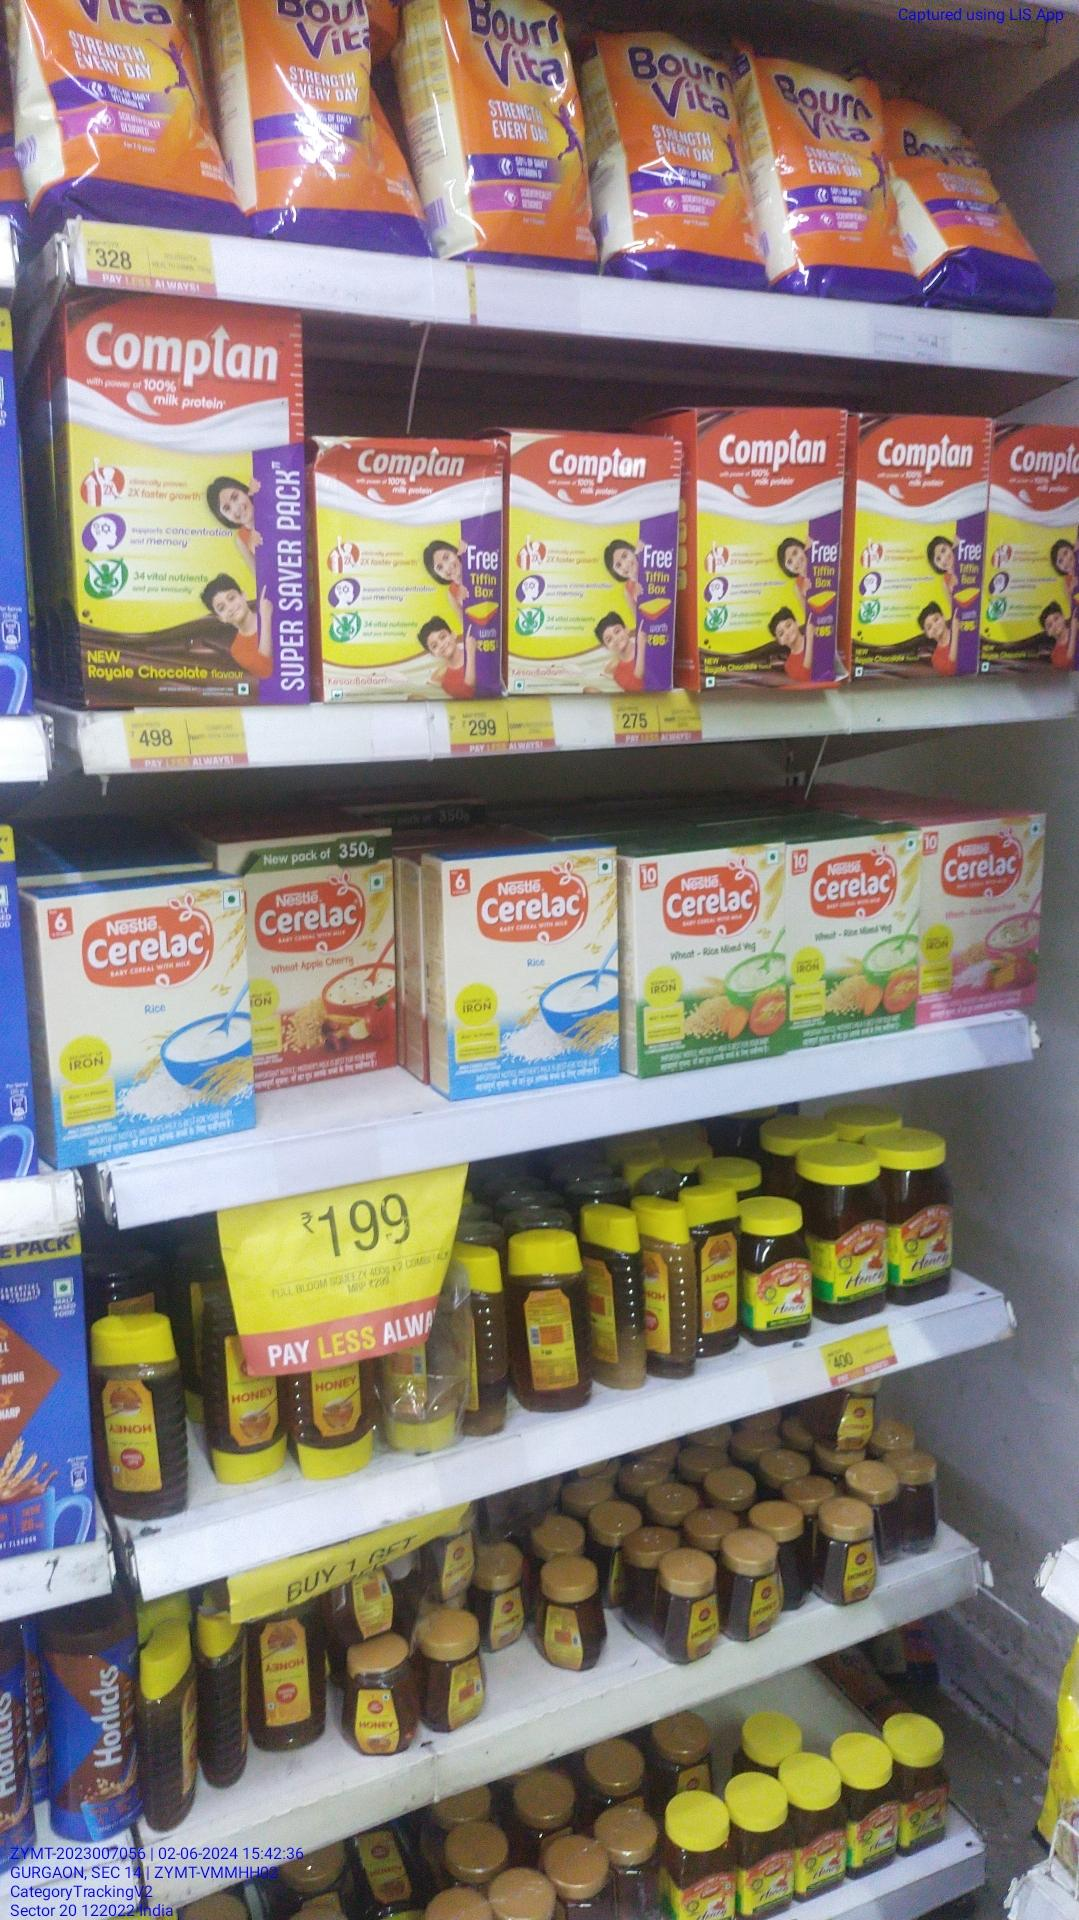BOURN_VITA_1_KG_POUCH: (434, 0, 592, 260), (233, 0, 402, 243), (608, 22, 755, 276), (764, 45, 915, 284)
